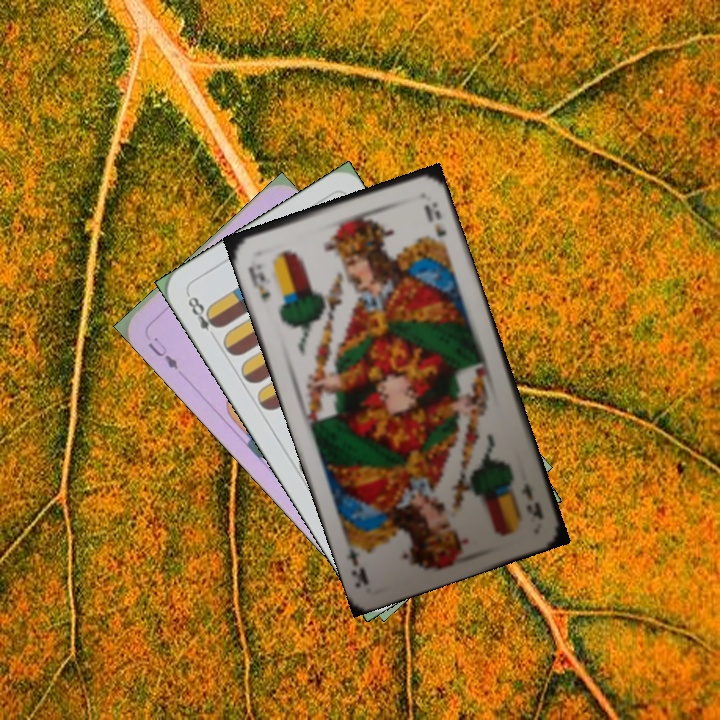E8: (183, 290, 223, 344)
EK: (517, 479, 546, 522), (244, 263, 273, 305)
EU: (144, 333, 181, 372)
